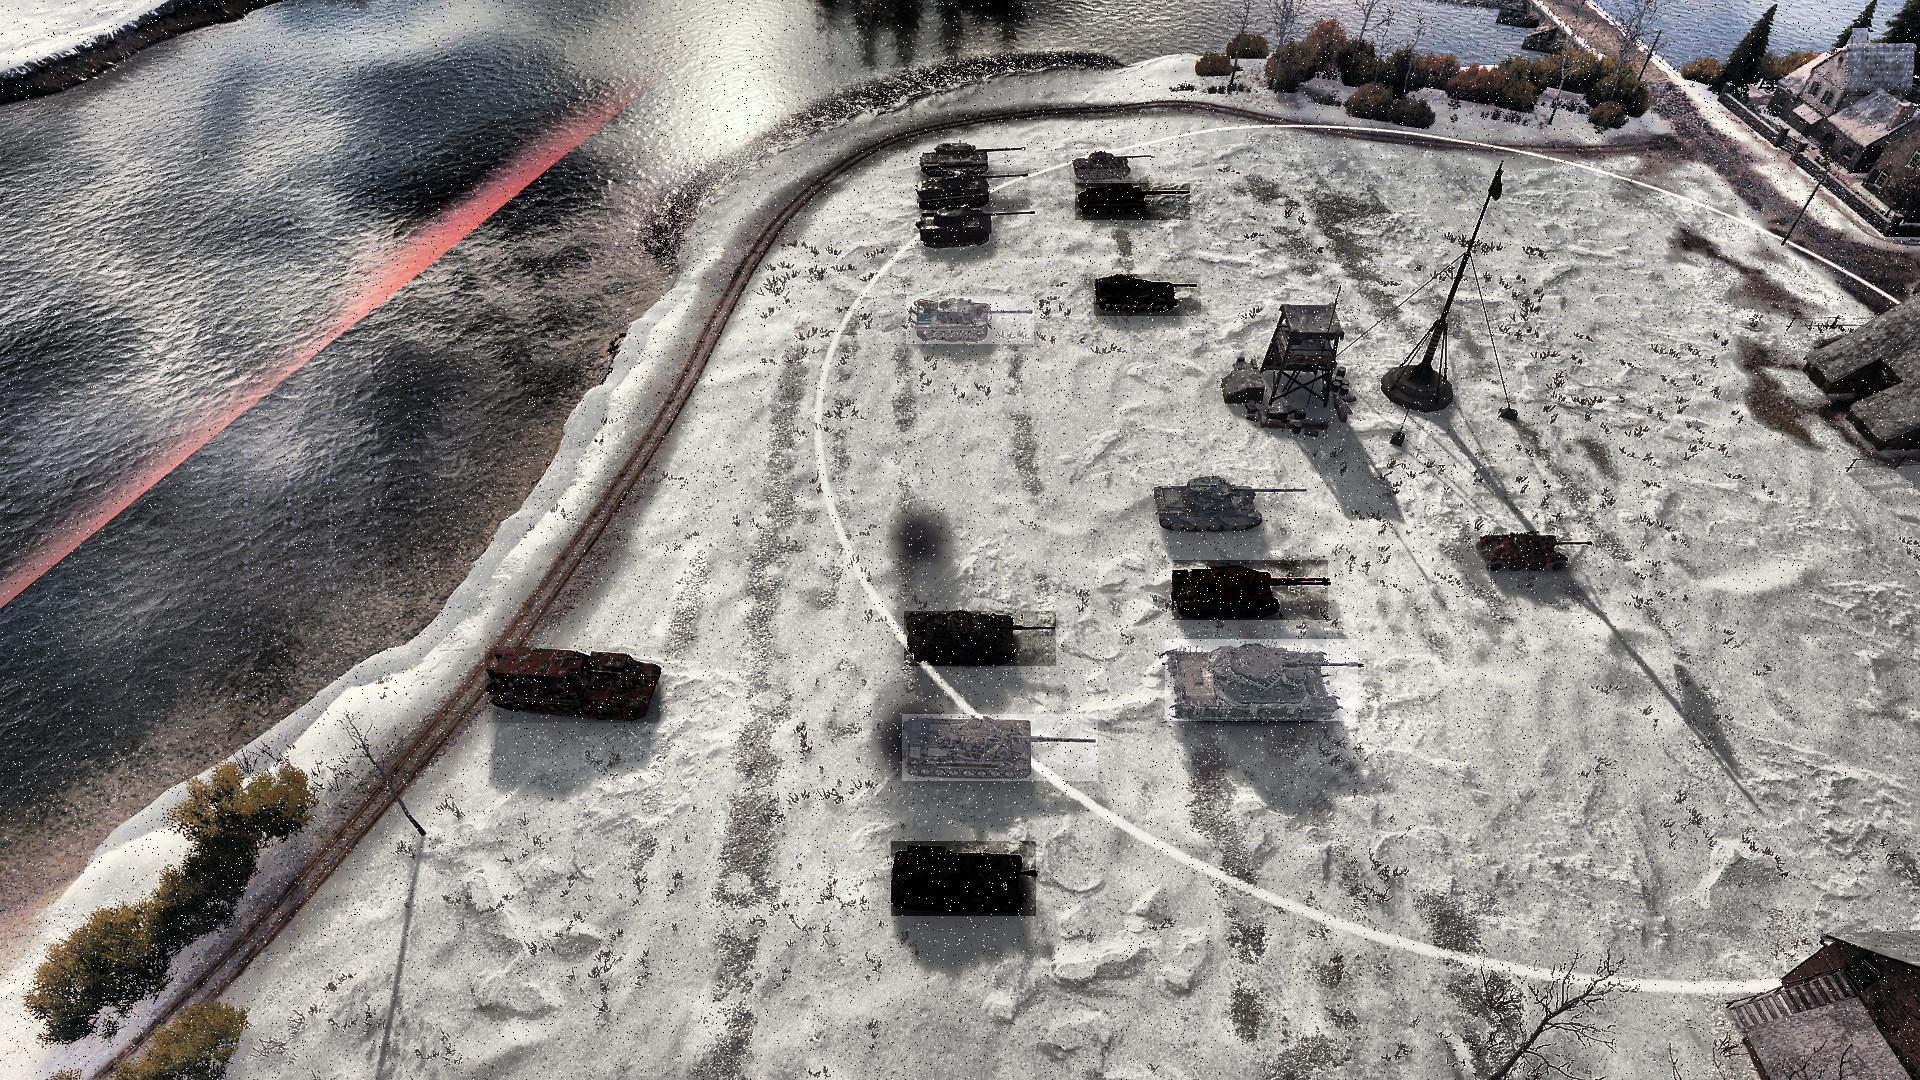military-vehicle: (1166, 640, 1358, 721), (902, 715, 1098, 782), (485, 647, 659, 723), (891, 841, 1036, 916), (1172, 560, 1328, 620), (1154, 475, 1308, 533), (905, 612, 1056, 667), (907, 297, 1035, 345), (915, 171, 1030, 212), (915, 208, 1036, 247), (1095, 274, 1201, 316), (1075, 183, 1189, 220), (918, 138, 1027, 175), (1072, 150, 1151, 182)
